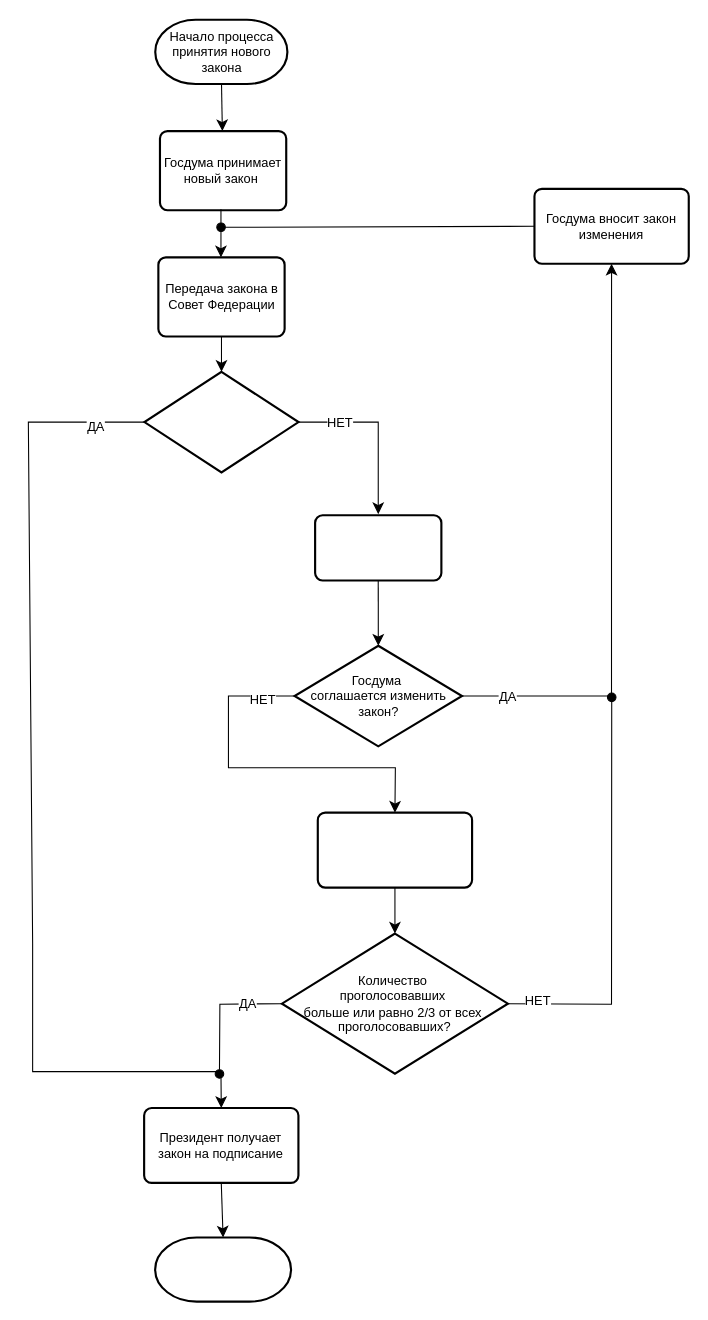
The diagram is 708 pixels wide and 1320 high, and some of its shapes have lost their labels. Each missing label, with the box of its shape:
Завершение процесса принятия нового закона: (154, 1236, 292, 1302)
Закон возвращается в Госдуму: (314, 514, 442, 581)
Проведение повторного голосования: (316, 811, 473, 888)
Совет Федерации одобрил закон?: (143, 370, 299, 473)
